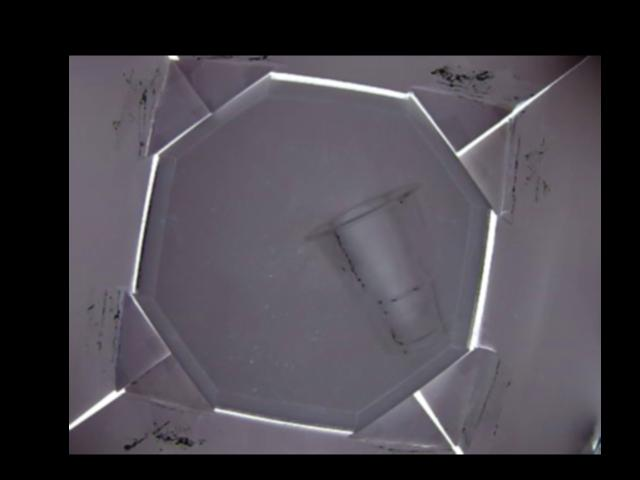Cup: (305, 180, 455, 354)
